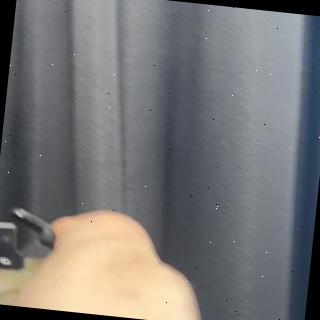fire: (0, 159, 3, 226)
